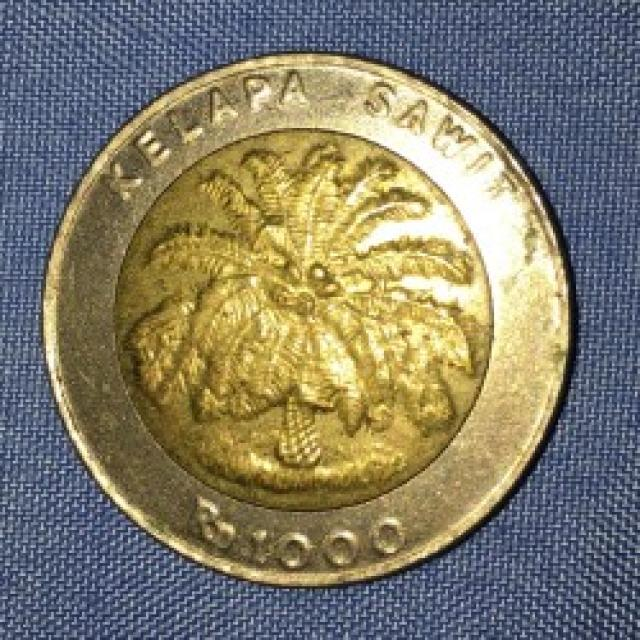1000-sawit: (35, 51, 584, 589)
